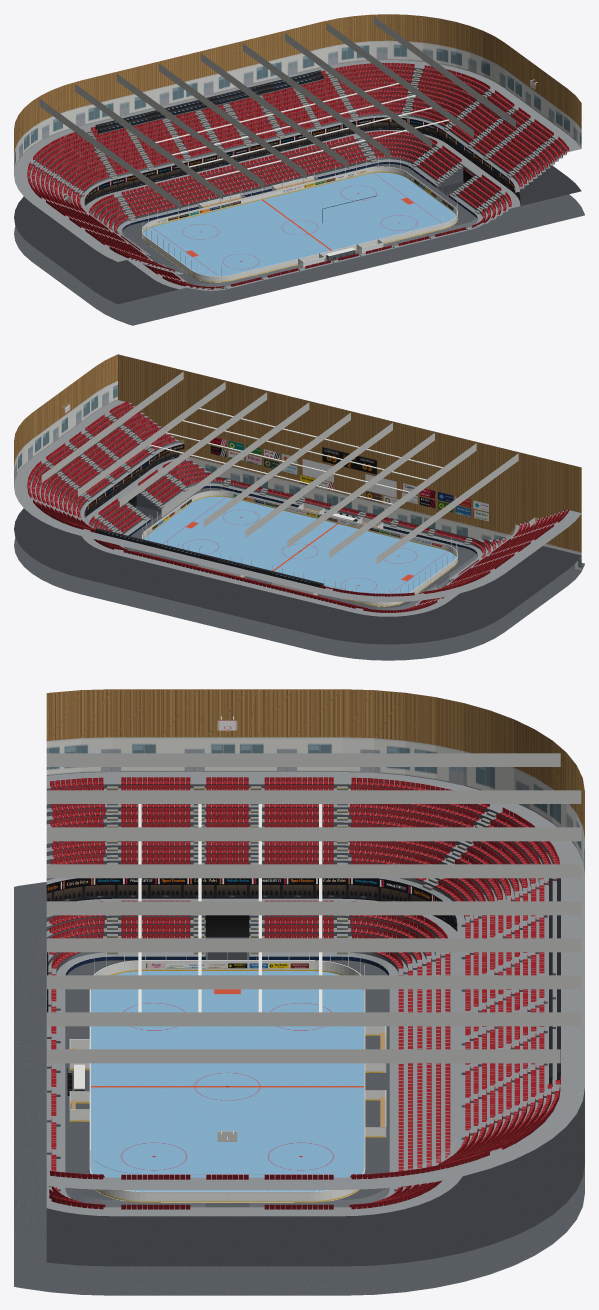
File: salle-finale.glb
3 views of the same model, one above another, from view 1: azimuth 30°, elevation 25°; view 2: azimuth 150°, elevation 25°; view 3: azimuth 270°, elevation 25° (orthographic). The views are drawn at different scales.
Parts seen in each view (by area): view 1: Tribune, Charpente, Piste, Batiment, Balustrade, Bancs; view 2: Charpente, Tribune, Piste, Batiment, Baches, Balustrade, Tableau; view 3: Tribune, Charpente, Piste, Batiment, Balustrade, Bancs, Prisons.
Boxes of the visible parts, x1=… form: Tribune: x1=14, y1=60, x2=581, y2=304; Charpente: x1=14, y1=14, x2=581, y2=209; Piste: x1=143, y1=172, x2=456, y2=276; Batiment: x1=14, y1=164, x2=584, y2=325; Balustrade: x1=142, y1=157, x2=457, y2=282; Bancs: x1=198, y1=175, x2=318, y2=208; Charpente: x1=14, y1=354, x2=581, y2=587; Tribune: x1=14, y1=400, x2=581, y2=644; Piste: x1=143, y1=496, x2=456, y2=593; Batiment: x1=14, y1=488, x2=584, y2=660; Baches: x1=210, y1=437, x2=488, y2=521; Balustrade: x1=142, y1=481, x2=457, y2=606; Tableau: x1=322, y1=447, x2=376, y2=474; Tribune: x1=46, y1=772, x2=584, y2=1266; Charpente: x1=46, y1=689, x2=584, y2=1141; Piste: x1=91, y1=971, x2=363, y2=1191; Batiment: x1=14, y1=882, x2=584, y2=1295; Balustrade: x1=89, y1=952, x2=365, y2=1202; Bancs: x1=365, y1=1026, x2=386, y2=1137; Prisons: x1=69, y1=1039, x2=89, y2=1121.
Bounding box in the file's own units: 90.3 × 19.01 × 52.15.
7 materials, 6 textured.
